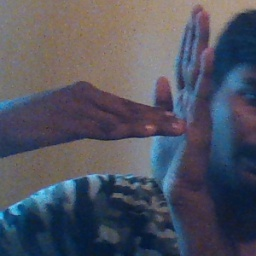Z: (102, 5, 219, 199)
